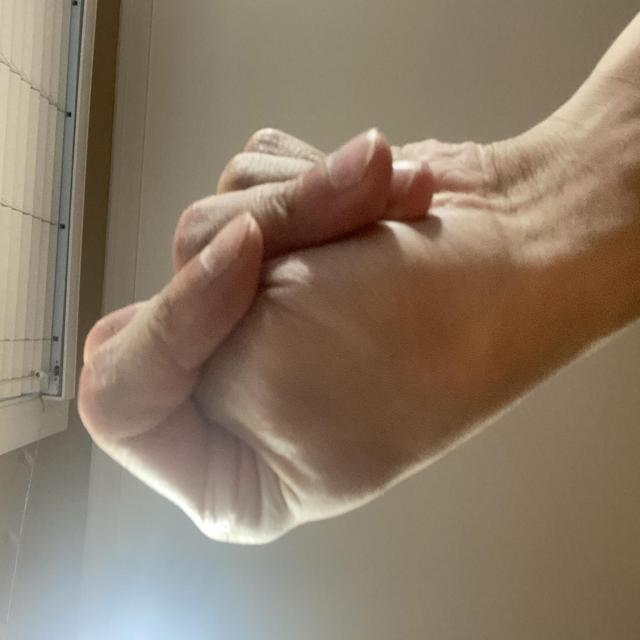T: (64, 94, 396, 640)
